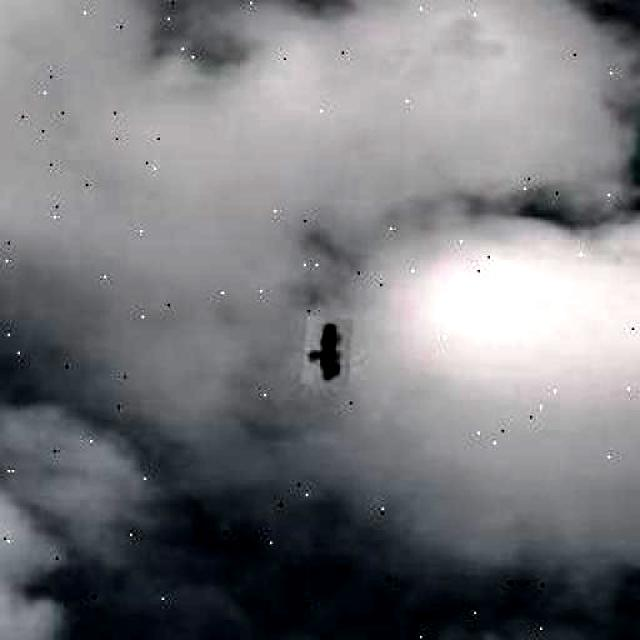airplane: (302, 316, 352, 388)
